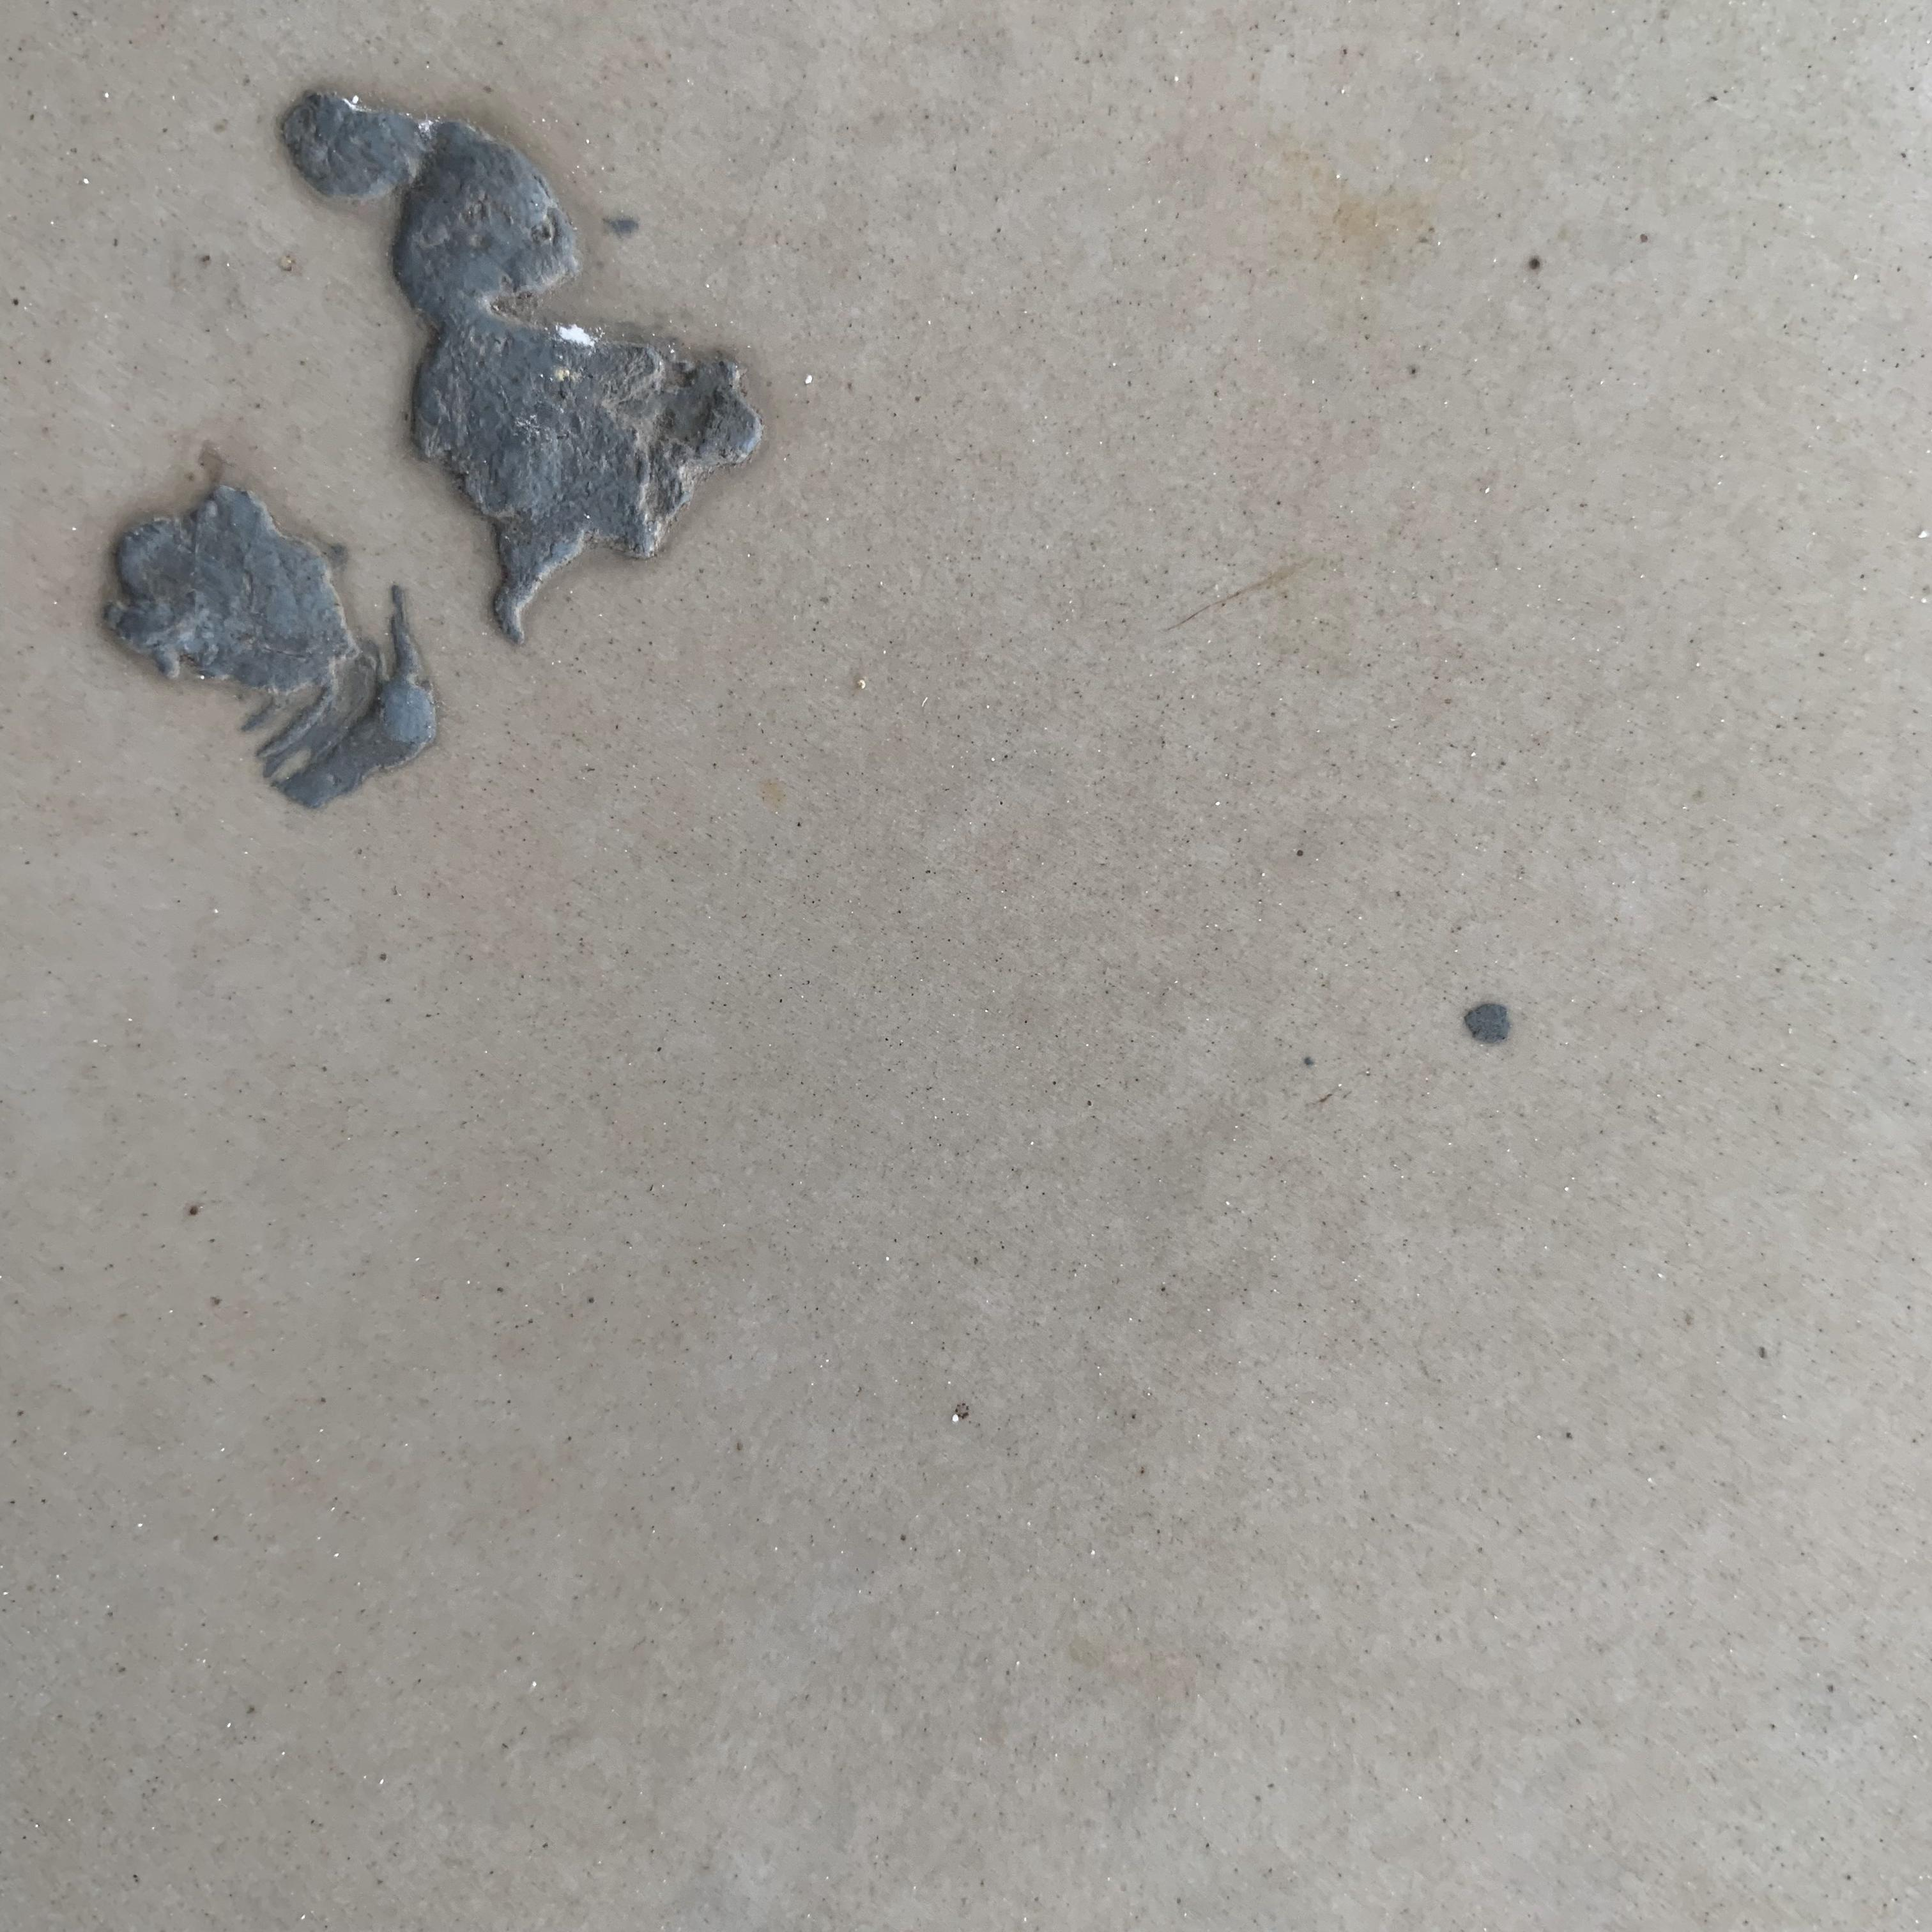grey spot: (278, 87, 764, 651), (99, 487, 442, 809), (1458, 1005, 1509, 1046)
